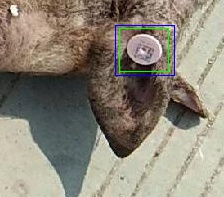text: (119, 28, 168, 71)
